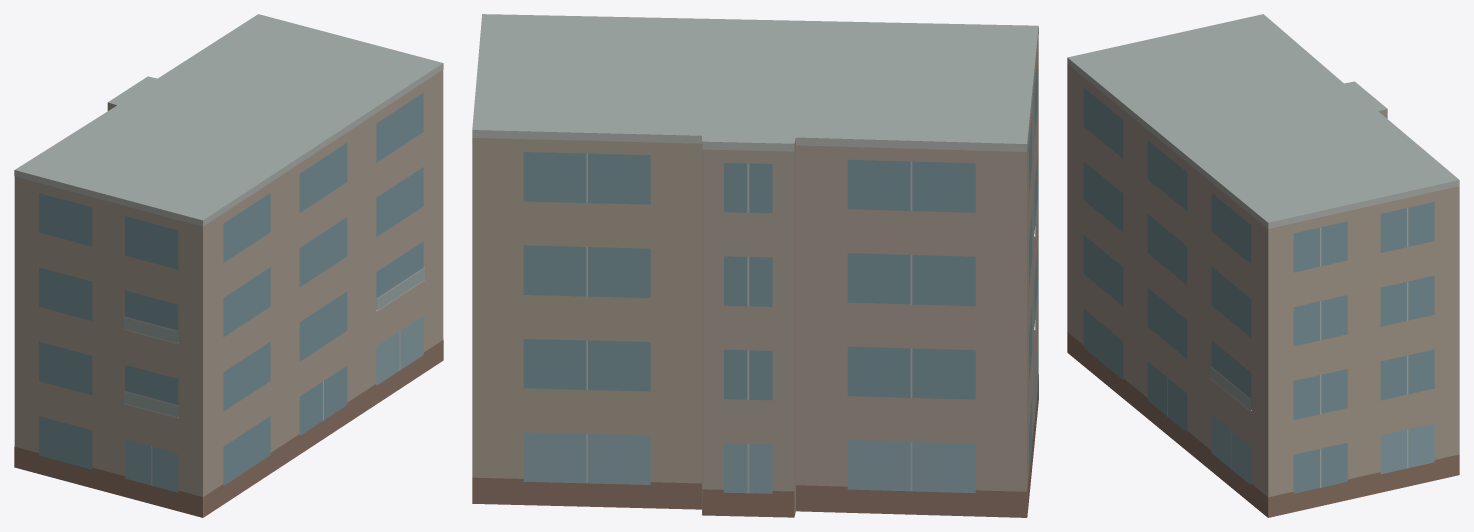
Rendered from survey-upis-32838306.glb.
3 renders of one model, left to right at view 1: azimuth 30°, elevation 25°; view 2: azimuth 150°, elevation 25°; view 3: azimuth 270°, elevation 25°, orthographic. The views are drawn at different scales.
Visible parts, largest first — view 1: survey-upis-32838306.tmp; view 2: survey-upis-32838306.tmp; view 3: survey-upis-32838306.tmp.
Boxes of the visible parts, x1=… form: survey-upis-32838306.tmp: x1=14, y1=14, x2=443, y2=517; survey-upis-32838306.tmp: x1=472, y1=14, x2=1038, y2=517; survey-upis-32838306.tmp: x1=1067, y1=14, x2=1459, y2=517.
Bounding box in the file's own units: 17.62 × 11.6 × 13.99.
